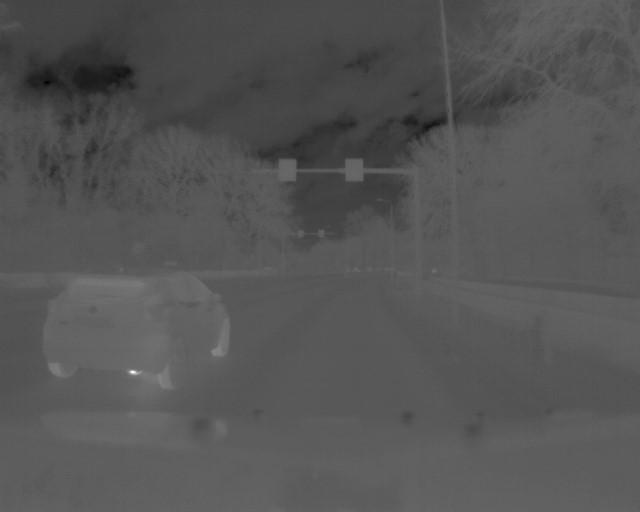car: (42, 268, 231, 390)
